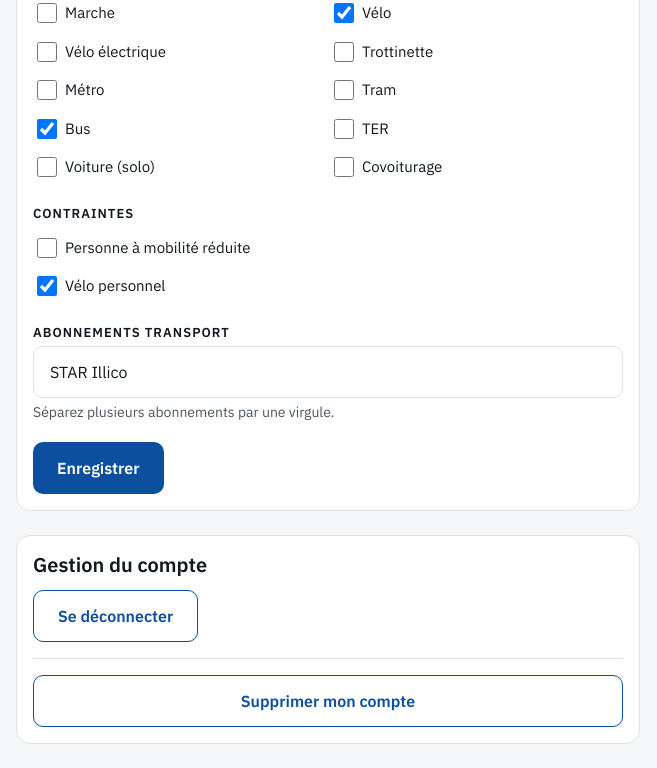
Test: ProfilePage › affiche une erreur si la sauvegarde échoue
(page scrolled)
Click the button "Enregistrer" at {"x": 98, "y": 468}, box [33, 442, 164, 494]
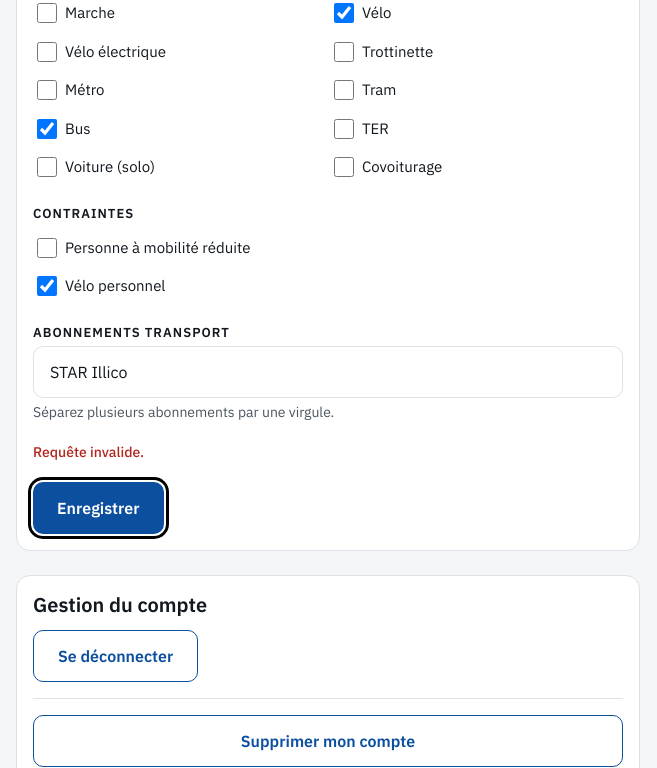
Check: the text "Requête invalide." is shown, box [33, 442, 144, 460]
